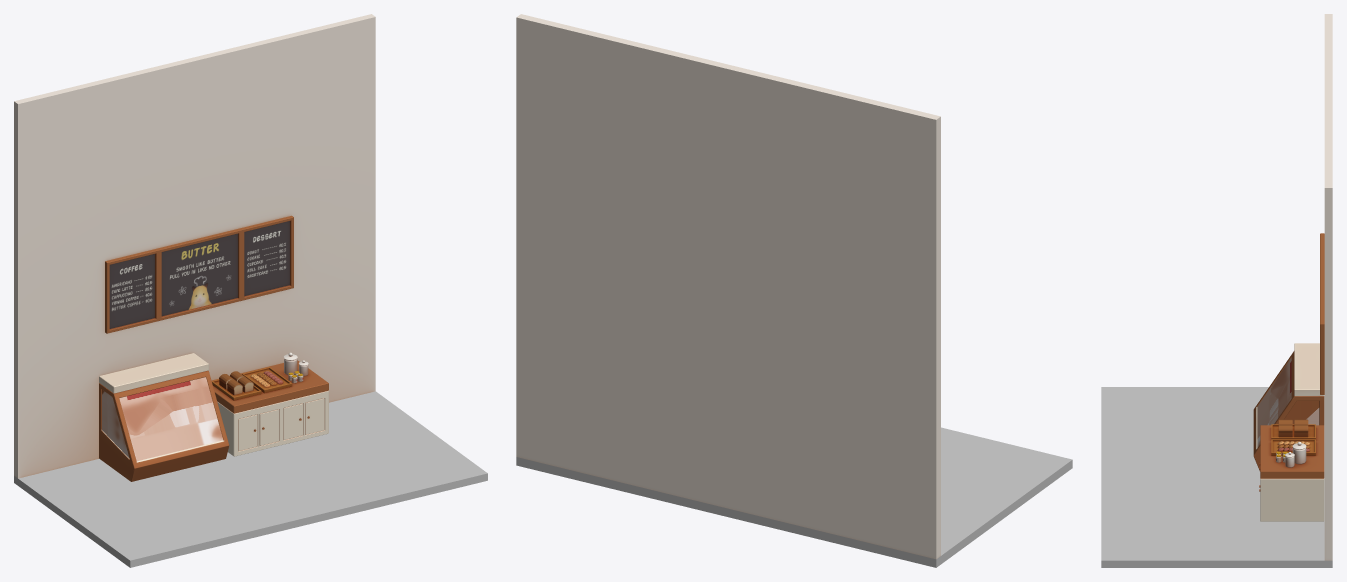
File: background_02.fbx
3 renders of one model, left to right at view 1: azimuth 30°, elevation 25°; view 2: azimuth 150°, elevation 25°; view 3: azimuth 270°, elevation 25°, orthographic. The views are drawn at different scales.
Parts seen in each view (by area): view 1: pCube1, pCube2, menu, main (×2), polySurface2, head (×2), door, tray, polySurface11, bread; view 2: pCube1, pCube2; view 3: pCube2, pCube1, main (×2), head (×2), polySurface2, menu, tray, polySurface5, bread.
Boxes of the visible parts, left/top/right/bottom form: pCube1: left=14, top=14, right=375, bottom=478; pCube2: left=14, top=391, right=487, bottom=567; menu: left=105, top=215, right=293, bottom=333; main (×2): left=99, top=370, right=328, bottom=481; polySurface2: left=119, top=377, right=223, bottom=461; head (×2): left=99, top=353, right=328, bottom=413; door: left=238, top=398, right=324, bottom=451; tray: left=212, top=367, right=292, bottom=400; polySurface11: left=102, top=389, right=129, bottom=458; bread: left=219, top=371, right=253, bottom=394; pCube1: left=516, top=14, right=940, bottom=559; pCube2: left=516, top=427, right=1072, bottom=567; pCube2: left=1101, top=387, right=1332, bottom=567; pCube1: left=1324, top=14, right=1332, bottom=560; main (×2): left=1253, top=351, right=1324, bottom=521; head (×2): left=1260, top=343, right=1324, bottom=478; polySurface2: left=1257, top=357, right=1291, bottom=447; menu: left=1320, top=233, right=1324, bottom=394; tray: left=1271, top=424, right=1315, bottom=455; polySurface5: left=1284, top=400, right=1319, bottom=425; bread: left=1278, top=419, right=1308, bottom=437.
Size of the model in its own units: 25.6 by 26.1 by 14.4.
